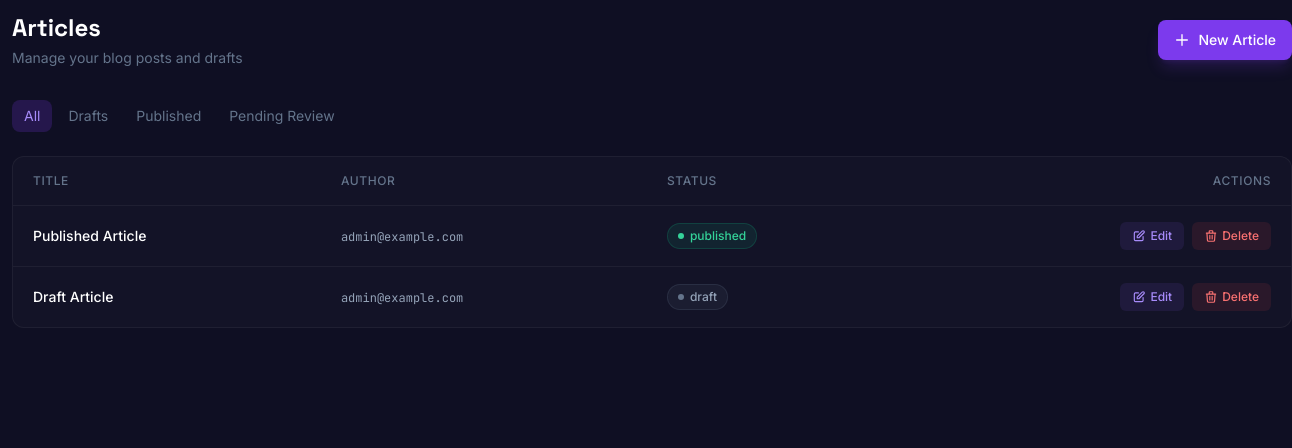
Test: AdminArticlesView › expands row to show detail card on click
Click first data row (not expanded row)
Click the row "Published Article admin@example.com published Edit Delete" at (90, 236), box x1=13 y1=206 x2=1291 y2=266
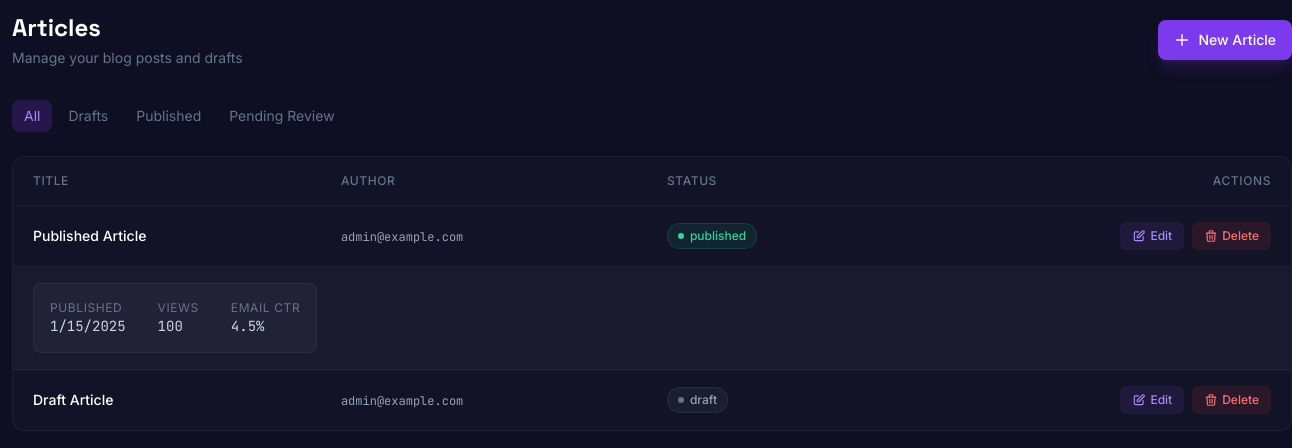
Expected: the text "Views" is shown, x1=158 y1=300 x2=199 y2=316
Expected: the text "Email CTR" is shown, x1=231 y1=300 x2=300 y2=316
